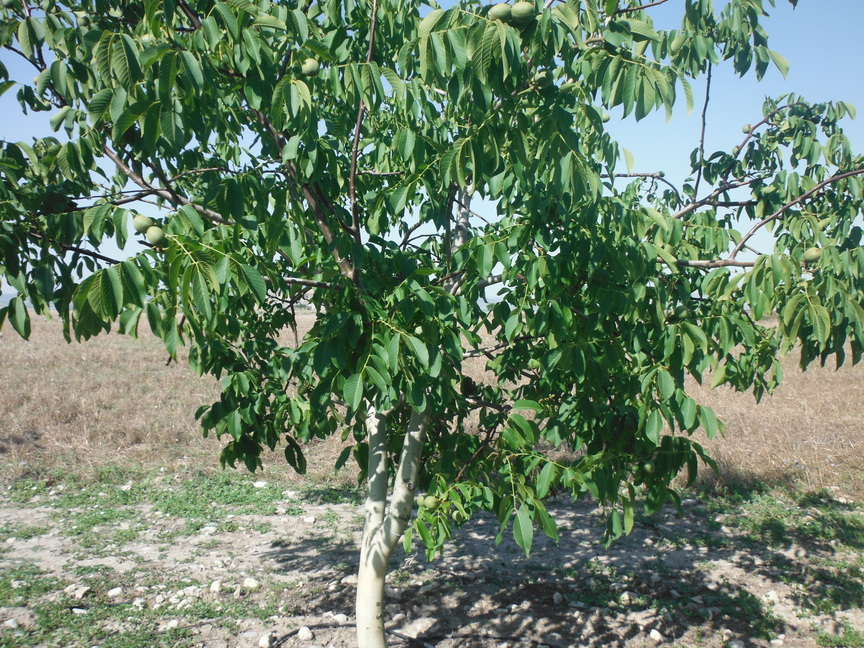walnut: (484, 0, 514, 26), (510, 1, 535, 27), (144, 223, 168, 249), (532, 66, 556, 92), (131, 210, 155, 233), (138, 28, 166, 47), (801, 244, 823, 266), (301, 57, 322, 79), (71, 13, 93, 30), (672, 303, 692, 321), (481, 445, 499, 463), (640, 458, 659, 475), (423, 494, 440, 511), (449, 508, 468, 523), (598, 108, 611, 127), (295, 382, 310, 397), (449, 455, 463, 470), (730, 141, 742, 158), (740, 121, 754, 135), (415, 492, 428, 507), (774, 129, 785, 145), (646, 191, 656, 205), (658, 168, 667, 179)
